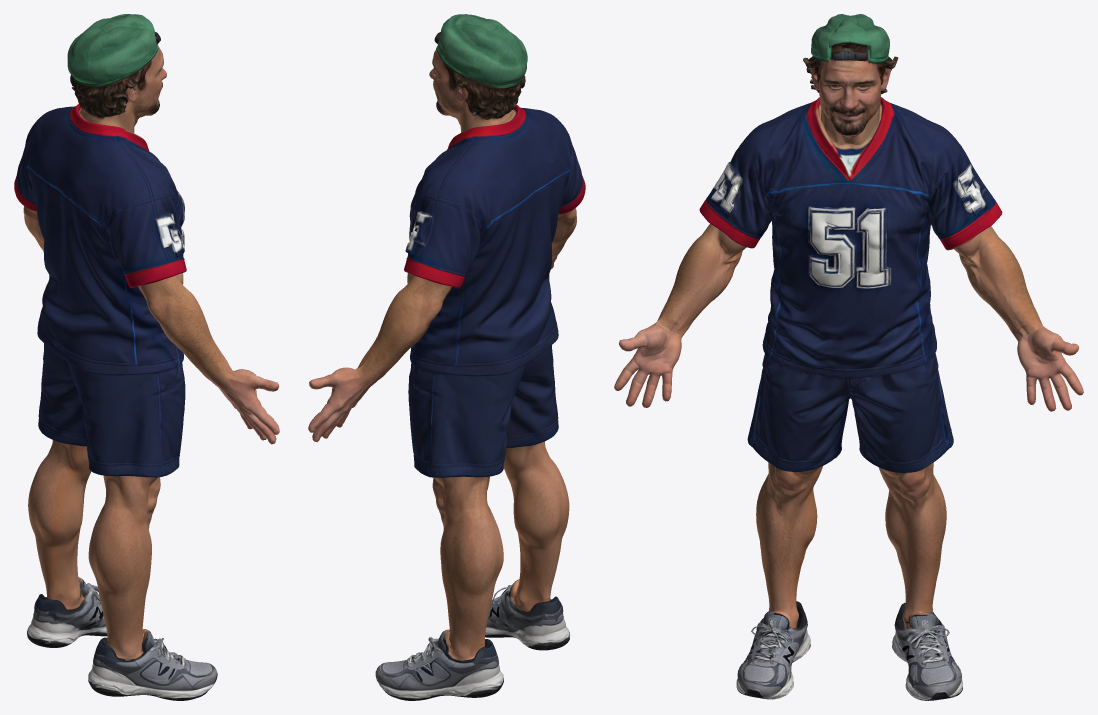
Rendered from body.glb.
The picture shows the model from 3 angles, left to right: view 1: azimuth 30°, elevation 25°; view 2: azimuth 150°, elevation 25°; view 3: azimuth 270°, elevation 25°; orthographic projection. The views are drawn at different scales.
Parts seen in each view (by area): view 1: tripo_node_fb558687-4093-4793-9395-687f9983fe06; view 2: tripo_node_fb558687-4093-4793-9395-687f9983fe06; view 3: tripo_node_fb558687-4093-4793-9395-687f9983fe06.
Part boxes in pixels (x1,y1,x2,y2): tripo_node_fb558687-4093-4793-9395-687f9983fe06: (14, 14, 279, 700); tripo_node_fb558687-4093-4793-9395-687f9983fe06: (308, 14, 585, 700); tripo_node_fb558687-4093-4793-9395-687f9983fe06: (614, 14, 1083, 700).
Size of the model in its own units: 0.1907 by 0.9796 by 0.6293.
Materials: 1 (1 with a texture image).
